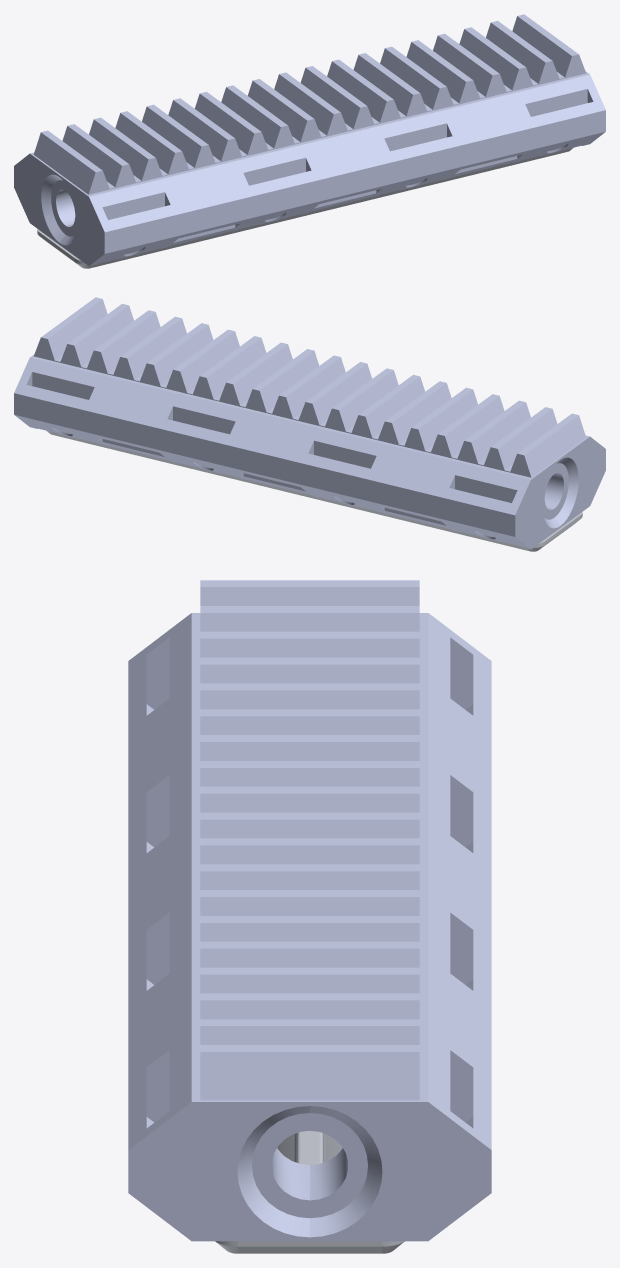
Rendered from Rack Gear (228-2500-216).glb.
3 views of the same model, one above another, from view 1: azimuth 30°, elevation 25°; view 2: azimuth 150°, elevation 25°; view 3: azimuth 270°, elevation 25° (orthographic). The views are drawn at different scales.
Visible parts, largest first — view 1: Rack Gear (228-2500-216); view 2: Rack Gear (228-2500-216); view 3: Rack Gear (228-2500-216).
Part boxes in pixels (x1=…): Rack Gear (228-2500-216): x1=14, y1=14, x2=605, y2=268; Rack Gear (228-2500-216): x1=14, y1=297, x2=605, y2=551; Rack Gear (228-2500-216): x1=128, y1=580, x2=491, y2=1253.
Size of the model in its own units: 2.5 by 0.4788 by 0.7819.
